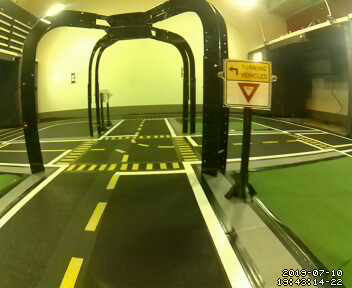Turn Yield: (222, 59, 271, 109)
